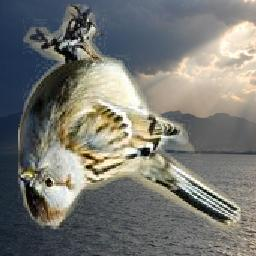Sparrow: (19, 4, 242, 230)
